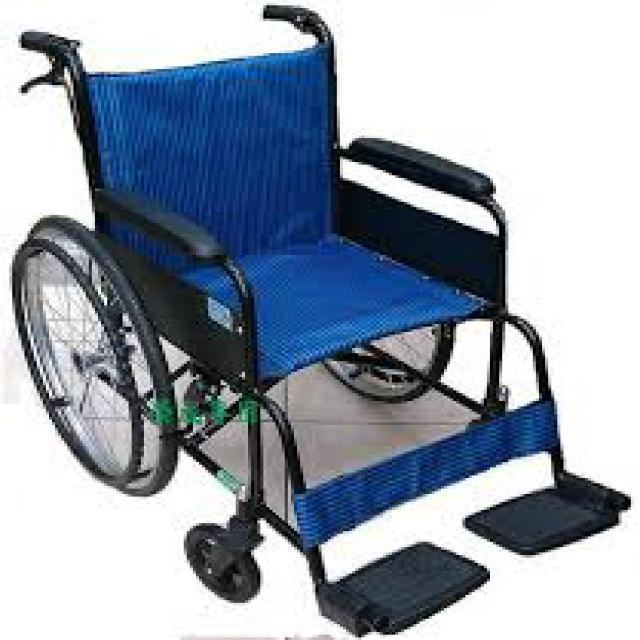wheelchair: (15, 2, 631, 638)
